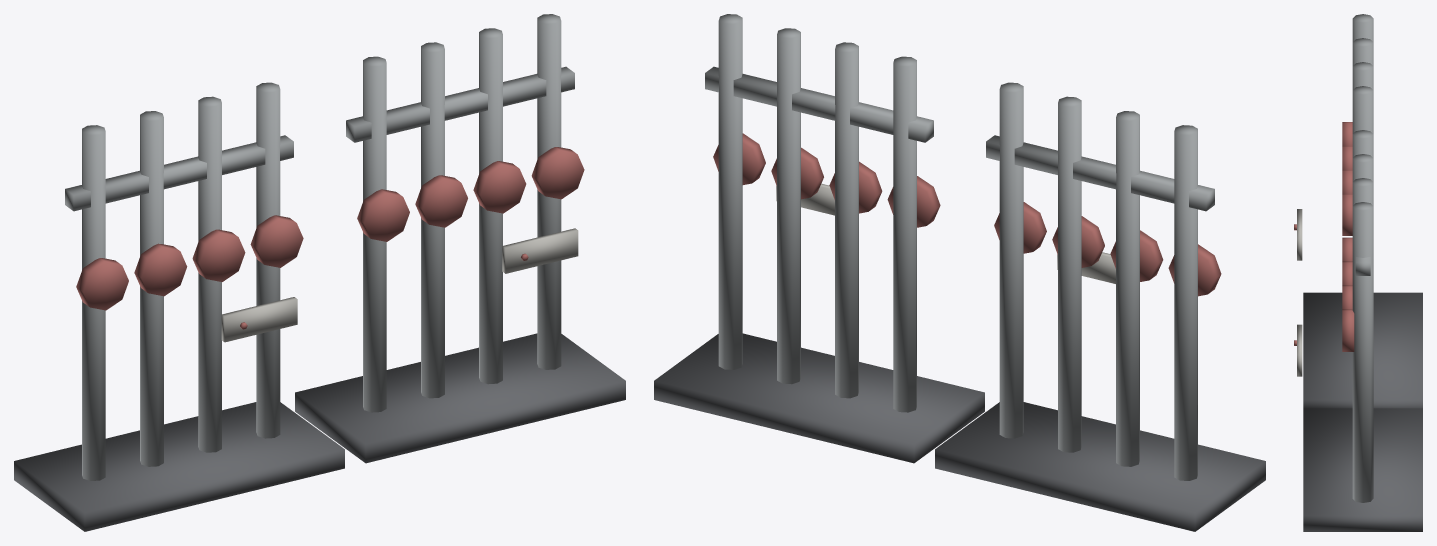
The model's file is sprinkler_riser__cluster.glb.
3 views of the same model, side by side, from view 1: azimuth 30°, elevation 25°; view 2: azimuth 150°, elevation 25°; view 3: azimuth 270°, elevation 25° (orthographic). The views are drawn at different scales.
Parts seen in each view (by area): view 1: world; view 2: world; view 3: world.
Boxes of the visible parts, left/top/right/bottom form: world: left=14, top=14, right=625, bottom=531; world: left=654, top=14, right=1265, bottom=531; world: left=1294, top=14, right=1422, bottom=531.
Bounding box in the file's own units: 1.77 × 1.14 × 0.431.
